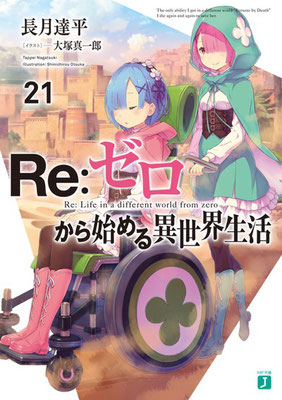rem: (40, 61, 171, 265)
